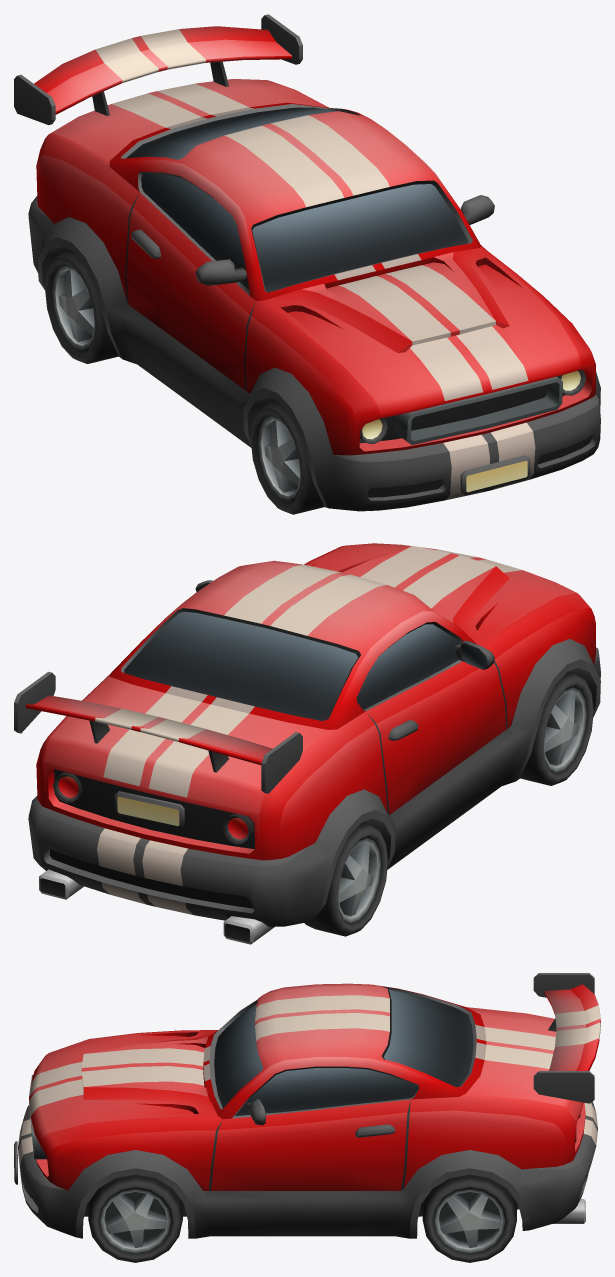
The model's file is VHC0110009.FBX.
3 views of the same model, one above another, from view 1: azimuth 30°, elevation 25°; view 2: azimuth 150°, elevation 25°; view 3: azimuth 270°, elevation 25° (orthographic). The views are drawn at different scales.
Parts seen in each view (by area): view 1: smVHC0110009; view 2: smVHC0110009; view 3: smVHC0110009.
Boxes of the visible parts, x1,y1,x2,y2 form: smVHC0110009: (14, 14, 600, 514); smVHC0110009: (14, 543, 600, 944); smVHC0110009: (14, 973, 600, 1262).
Bounding box in the file's own units: 1.56 × 1.22 × 3.3.
1 material, 1 textured.
